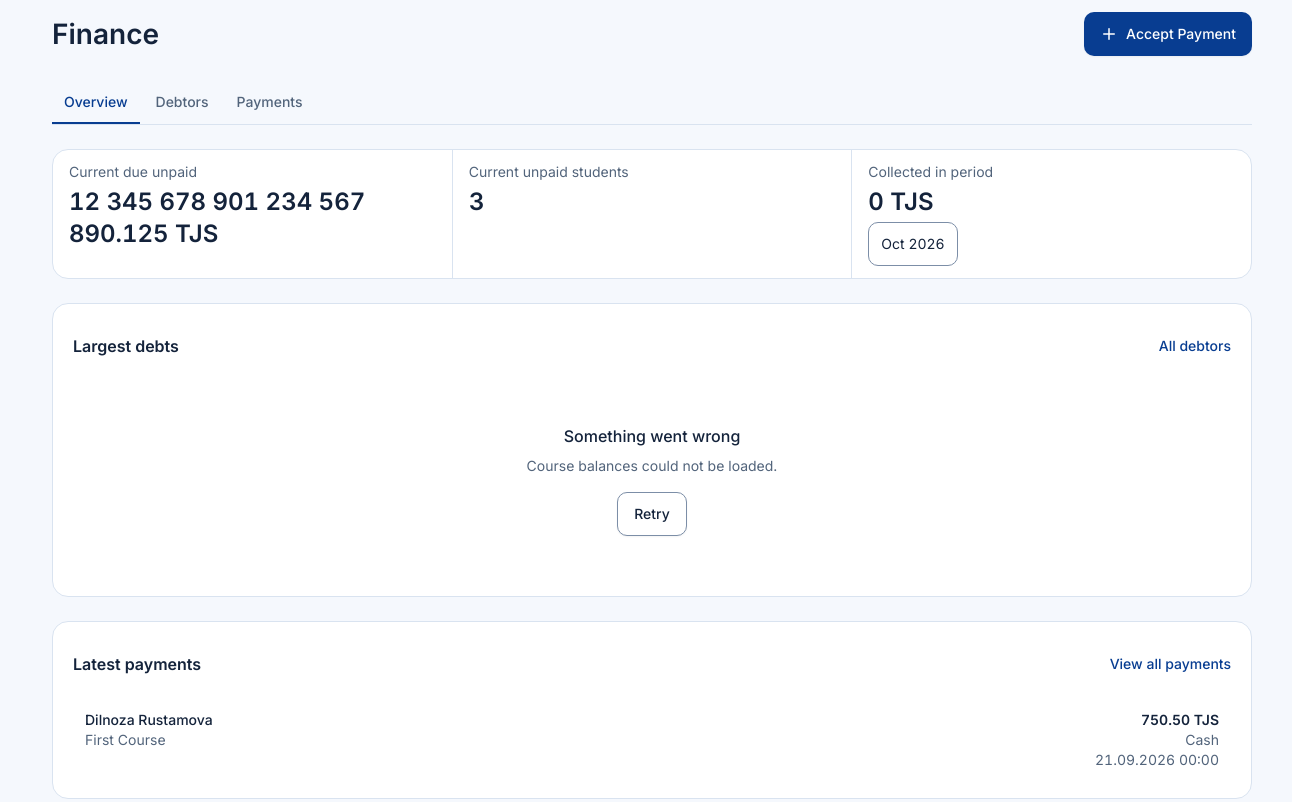
Test case: Finance overview › isolates preview failures, never shows zero for them and retries only the failed one
This screenshot has width=1292, height=802.
Check: the message "Something went wrong Course balances could not be loaded. Retry" is shown, box [527,426,777,536]
Check: the button with aria-label "Details for Dilnoza Rustamova, payment 123" is shown, box [73,702,1231,778]
Click the button "Retry" at [652, 514], box [617,492,687,536]
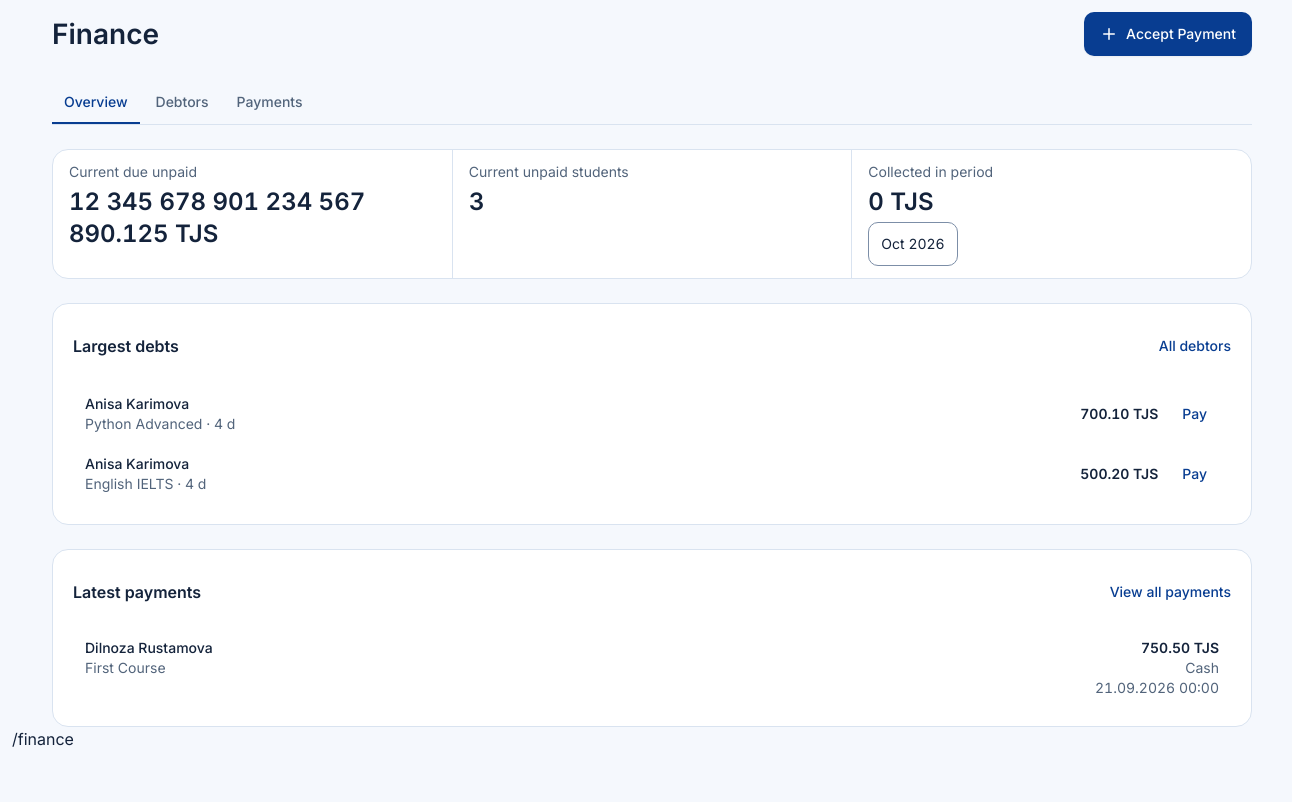
Check: the text "Python Advanced" is shown, box [85,415,202,432]
